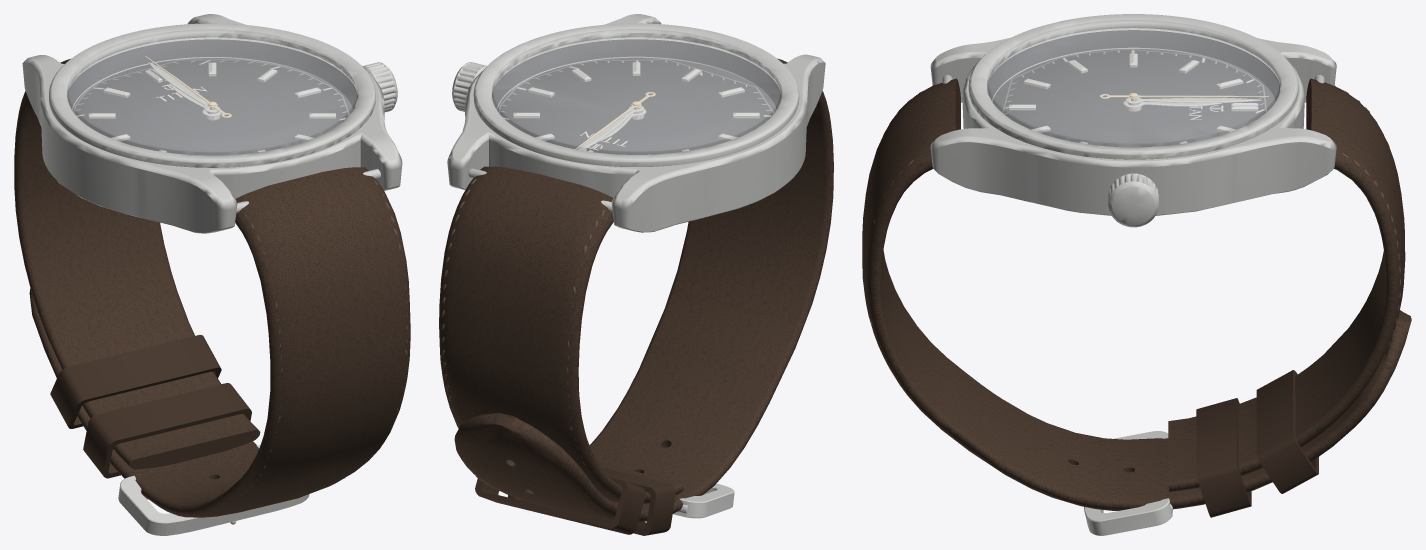
The model's file is watch-mobile.glb.
The picture shows the model from 3 angles, left to right: view 1: azimuth 30°, elevation 25°; view 2: azimuth 150°, elevation 25°; view 3: azimuth 270°, elevation 25°; orthographic projection.
Parts seen in each view (by area): view 1: strap_b, strap_a, crystal, case_body, dial, bezel, buckle, crown, hand_minute; view 2: strap_b, strap_a, crystal, case_body, dial, bezel, buckle, crown, hand_minute; view 3: strap_b, case_body, strap_a, crystal, dial, bezel, buckle, crown, hand_minute.
Part boxes in pixels (x1,y1,x2,y2): strap_b: (29, 167, 410, 517); strap_a: (14, 59, 260, 478); crystal: (67, 29, 356, 155); case_body: (22, 14, 402, 233); dial: (72, 58, 351, 155); bezel: (49, 23, 375, 167); buckle: (118, 445, 309, 535); crown: (362, 62, 397, 112); hand_minute: (149, 62, 219, 114); strap_b: (454, 58, 833, 522); strap_a: (439, 166, 683, 535); crystal: (492, 29, 780, 154); case_body: (447, 14, 825, 232); dial: (497, 57, 775, 154); bezel: (473, 23, 799, 166); buckle: (673, 483, 734, 518); crown: (452, 62, 486, 111); hand_minute: (577, 106, 644, 150); strap_b: (862, 75, 1411, 510); case_body: (930, 28, 1336, 215); strap_a: (1168, 75, 1405, 517); crystal: (987, 20, 1279, 146); dial: (993, 49, 1274, 147); bezel: (968, 14, 1298, 159); buckle: (1084, 431, 1172, 535); crown: (1108, 173, 1158, 227); hand_minute: (1126, 97, 1261, 105).
Size of the model in its own units: 44.77 by 55.8 by 64.99.
Materials: 17 (3 with a texture image).
